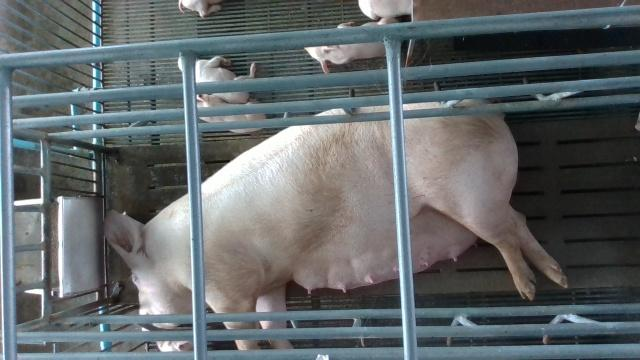piglet: (305, 17, 406, 73), (178, 57, 256, 103), (195, 93, 266, 133)
sow-sleep-lactate: (102, 99, 569, 349)
